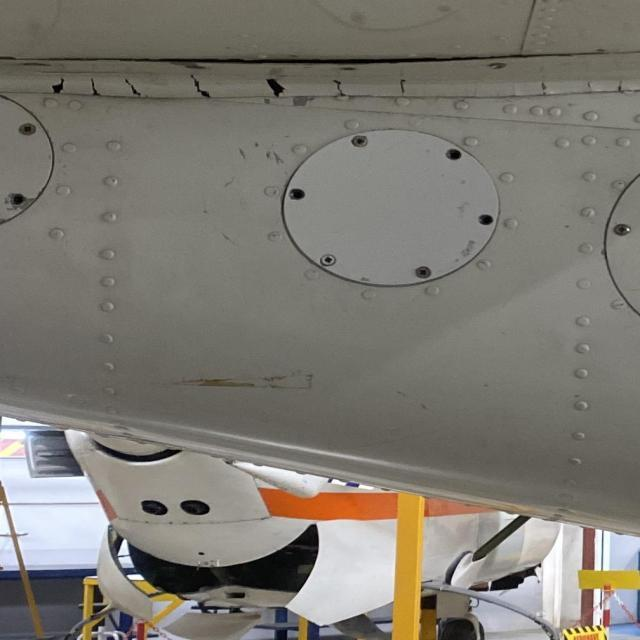Missing-head: (7, 192, 31, 205), (287, 187, 307, 201), (476, 213, 497, 226), (445, 147, 461, 160)
Paint-off: (224, 139, 260, 163), (260, 148, 285, 166), (287, 94, 318, 108), (218, 175, 238, 191), (213, 230, 233, 245)
